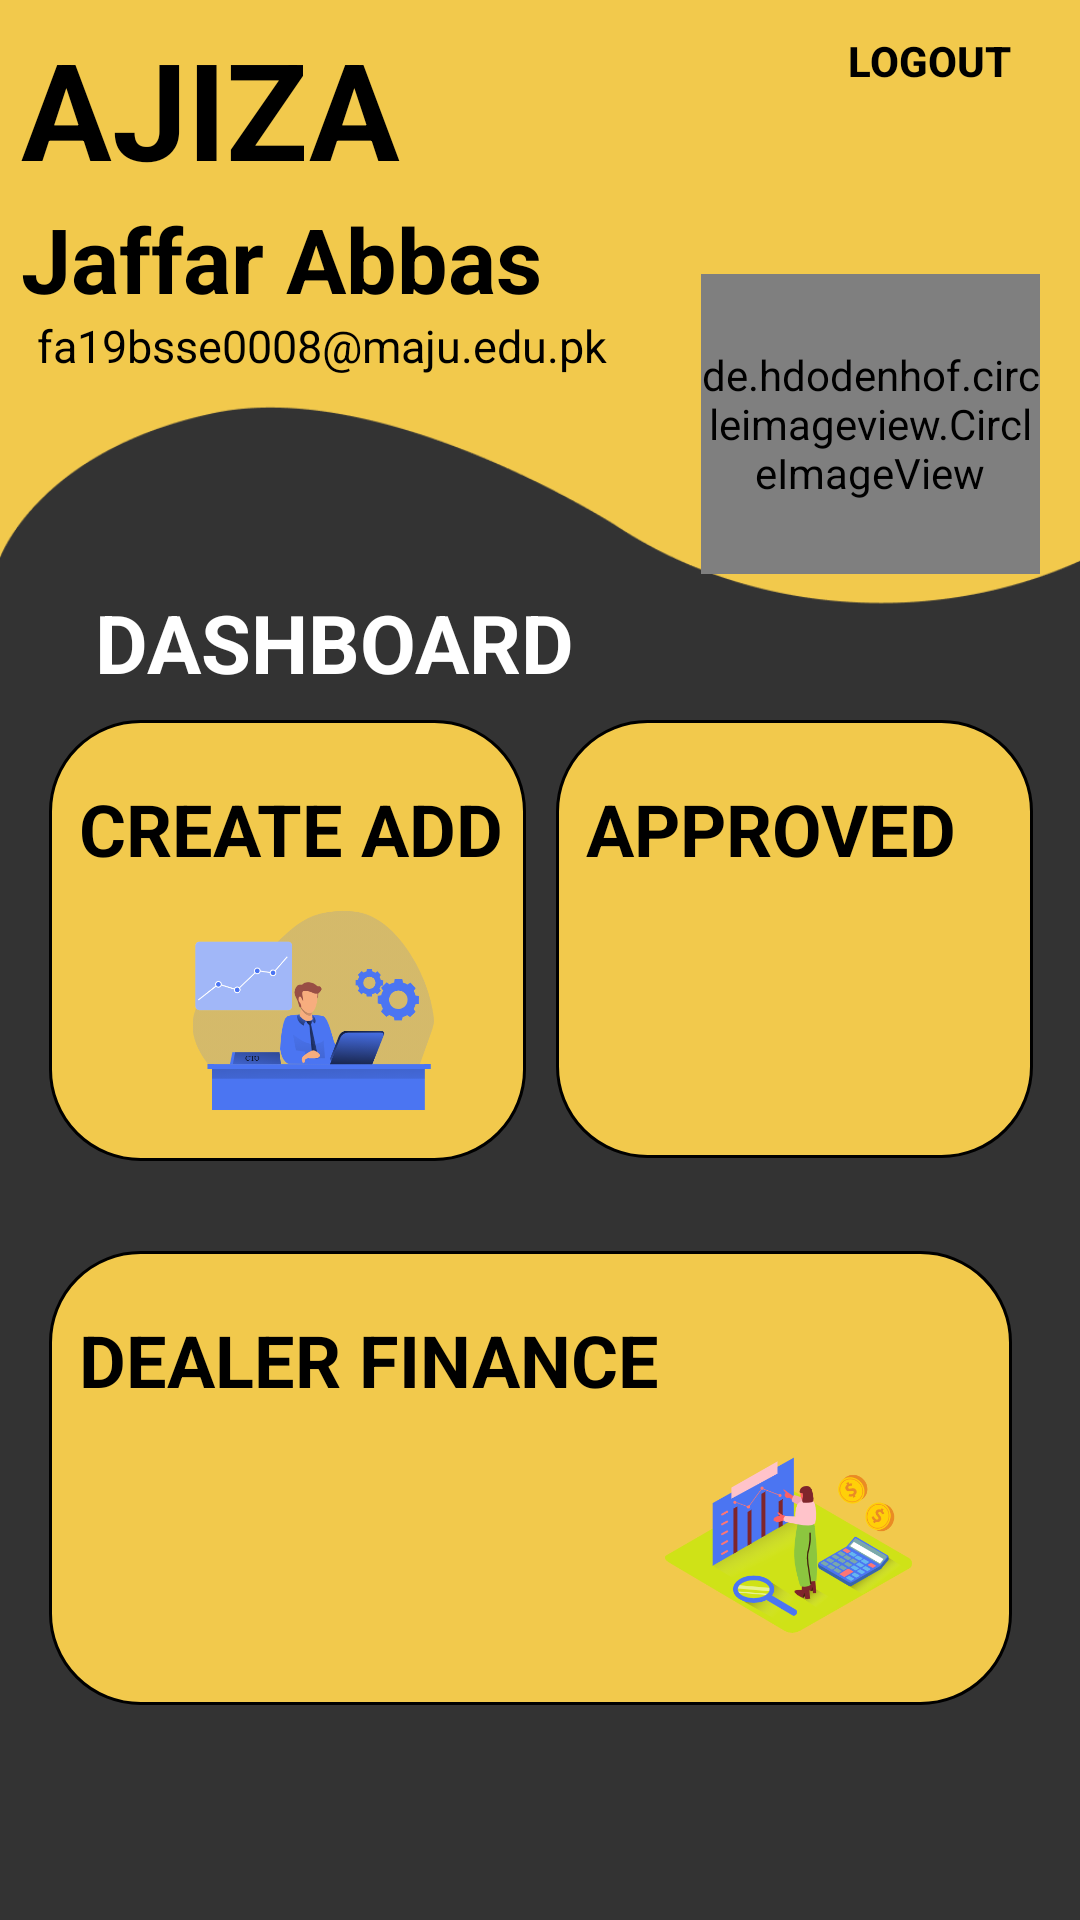

Point at icon controls on the screen. Image size 1080px x 1920px, points as [x,y].
cto: [313,1010]
finanace: [788,1545]
